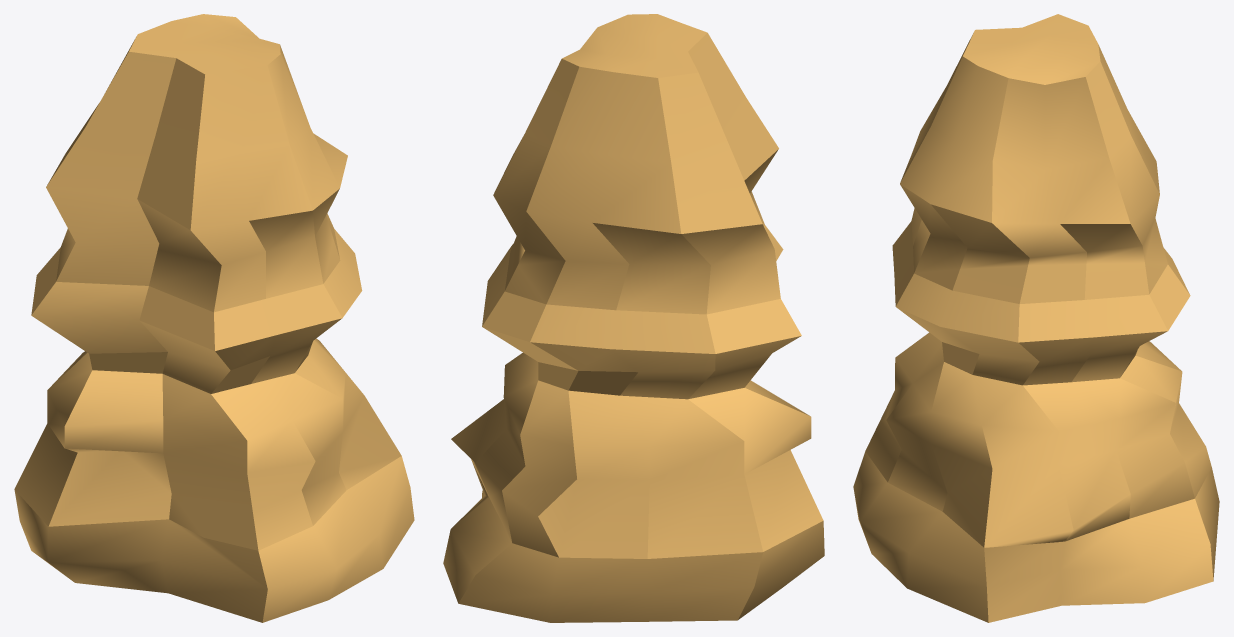
Rendered from SmolCliff_2.fbx.
3 views of the same model, side by side, from view 1: azimuth 30°, elevation 25°; view 2: azimuth 150°, elevation 25°; view 3: azimuth 270°, elevation 25° (orthographic). The views are drawn at different scales.
Parts seen in each view (by area): view 1: pCube1; view 2: pCube1; view 3: pCube1.
Boxes of the visible parts, left/top/right/bottom form: pCube1: left=14, top=14, right=414, bottom=622; pCube1: left=443, top=14, right=824, bottom=622; pCube1: left=853, top=14, right=1219, bottom=622.
Size of the model in its own units: 1814 by 2486 by 1674.
